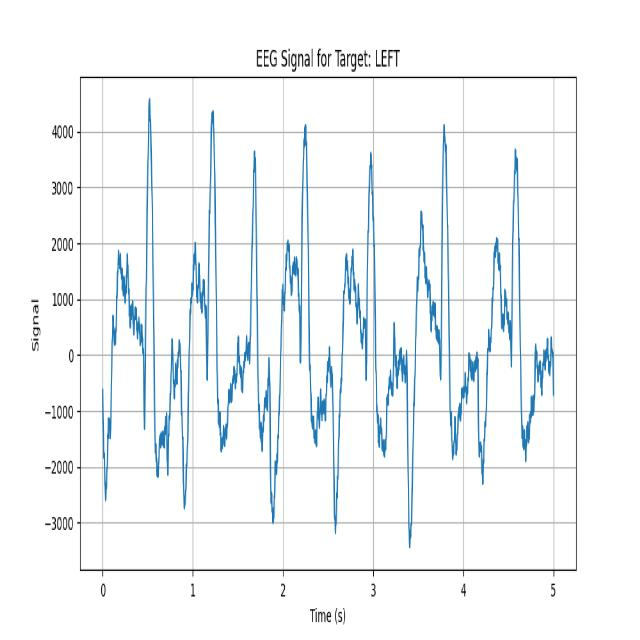LEFT: (469, 79, 543, 551), (104, 93, 174, 554), (404, 88, 472, 559), (171, 84, 237, 549), (290, 88, 355, 557), (236, 86, 291, 545), (356, 87, 403, 558)
